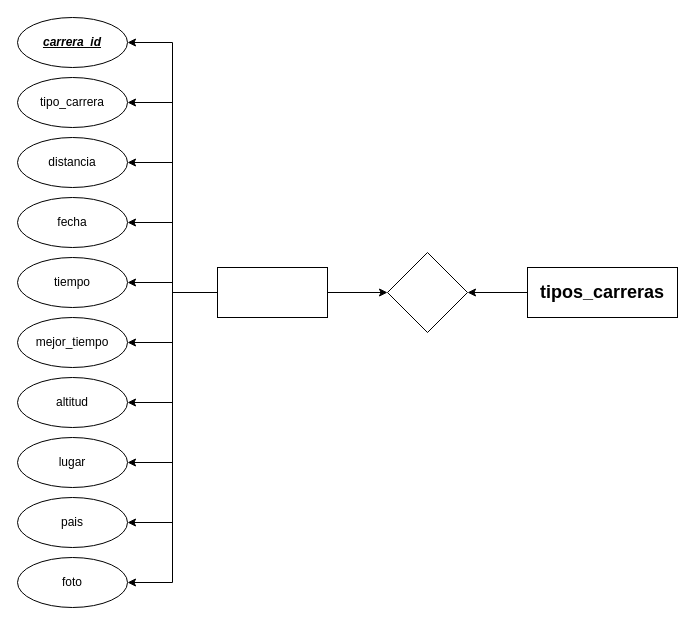
This 695x625 diagram has some shape labels left out. Here are the shapes that lost their labels. From the top down, the centre of each, then its label:
At [272,292]: "carreras".
At [427,292]: "pertenece".
